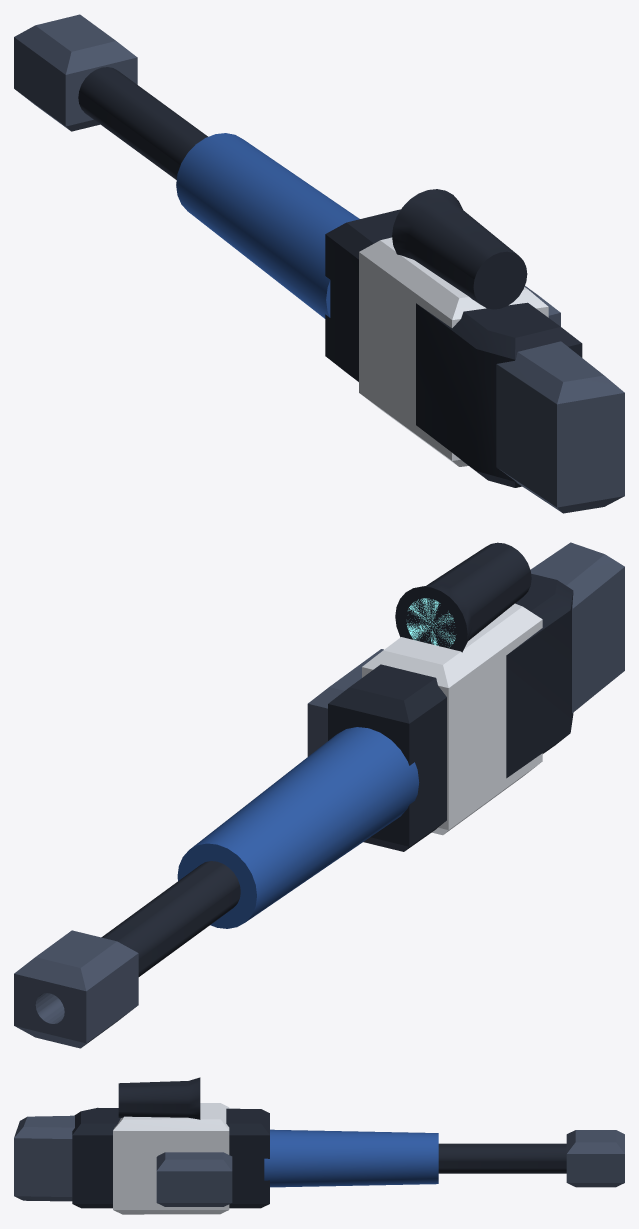
Rendered from w_a_aqua_gun.glb.
3 renders of one model, top to bottom at view 1: azimuth 30°, elevation 25°; view 2: azimuth 150°, elevation 25°; view 3: azimuth 270°, elevation 25°, orthographic. The views are drawn at different scales.
Visible parts, largest first — view 1: weapon_body, weapon_team_color; view 2: weapon_body, weapon_team_color, weapon; view 3: weapon_body, weapon_team_color.
Boxes of the visible parts, box(x1,y1,x2,y2) form: weapon_body: box(14, 14, 624, 513); weapon_team_color: box(359, 237, 548, 466); weapon_body: box(14, 542, 624, 1048); weapon_team_color: box(362, 603, 542, 835); weapon: box(406, 598, 455, 647); weapon_body: box(14, 1077, 624, 1208); weapon_team_color: box(113, 1103, 229, 1214).
Bounding box in the file's own units: 0.93 × 1.44 × 6.3.
